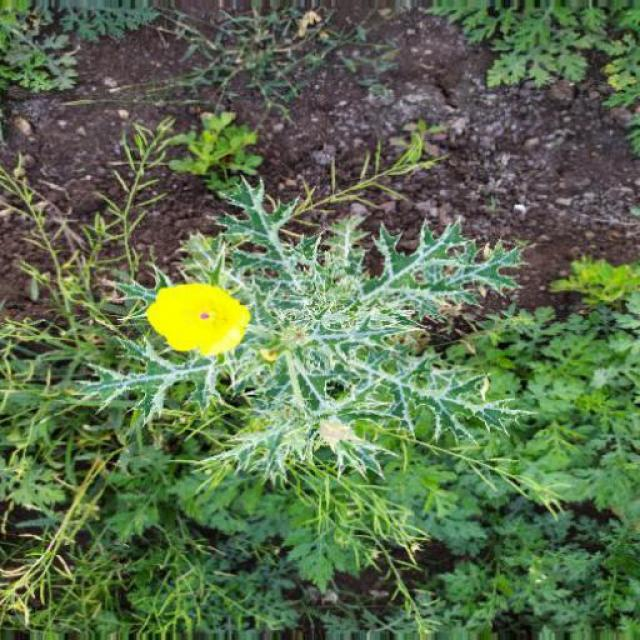weed: (26, 181, 614, 610)
